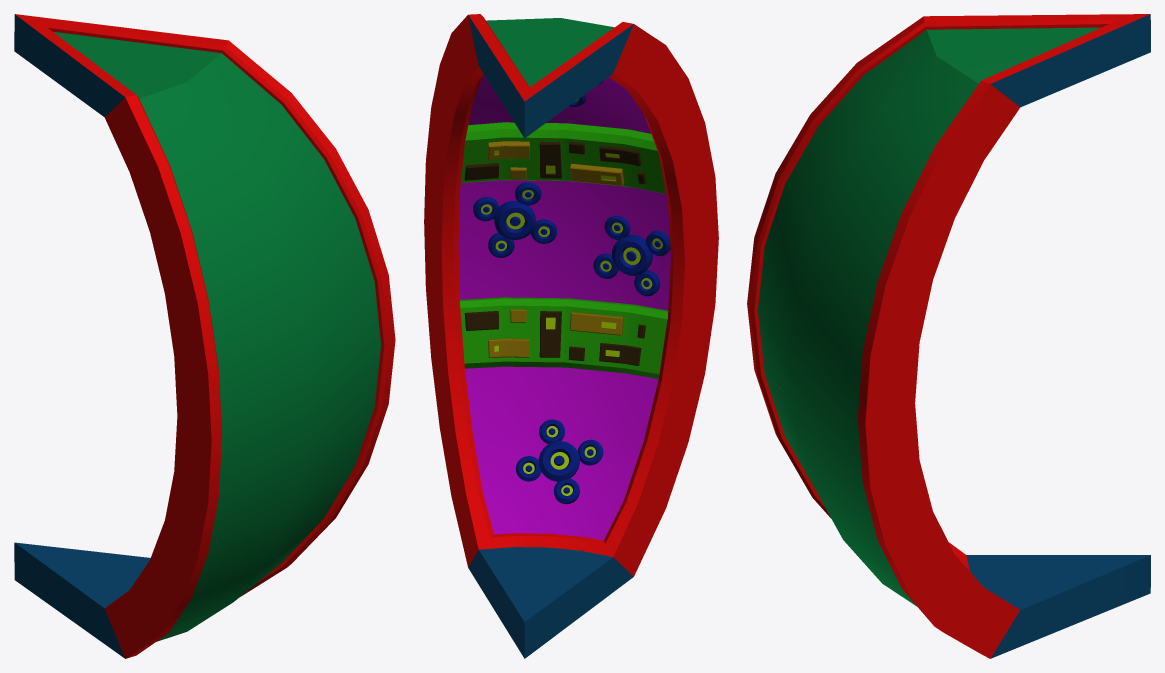
Rendered from OBJ_Salle_IA_V2.fbx.
3 renders of one model, left to right at view 1: azimuth 30°, elevation 25°; view 2: azimuth 150°, elevation 25°; view 3: azimuth 270°, elevation 25°, orthographic. The views are drawn at different scales.
Visible parts, largest first — view 1: OBJ_Salle_Ia001; view 2: OBJ_Salle_Ia001; view 3: OBJ_Salle_Ia001.
Part boxes in pixels (<box>): OBJ_Salle_Ia001: <box>14,14,395,658</box>; OBJ_Salle_Ia001: <box>424,14,718,658</box>; OBJ_Salle_Ia001: <box>747,14,1150,658</box>.
Bounding box in the file's own units: 11.02 × 24.67 × 15.58.
